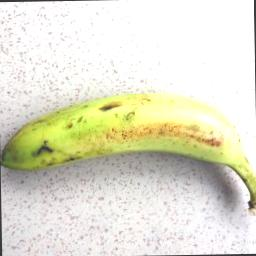Banana Ripe: (1, 95, 256, 209)
